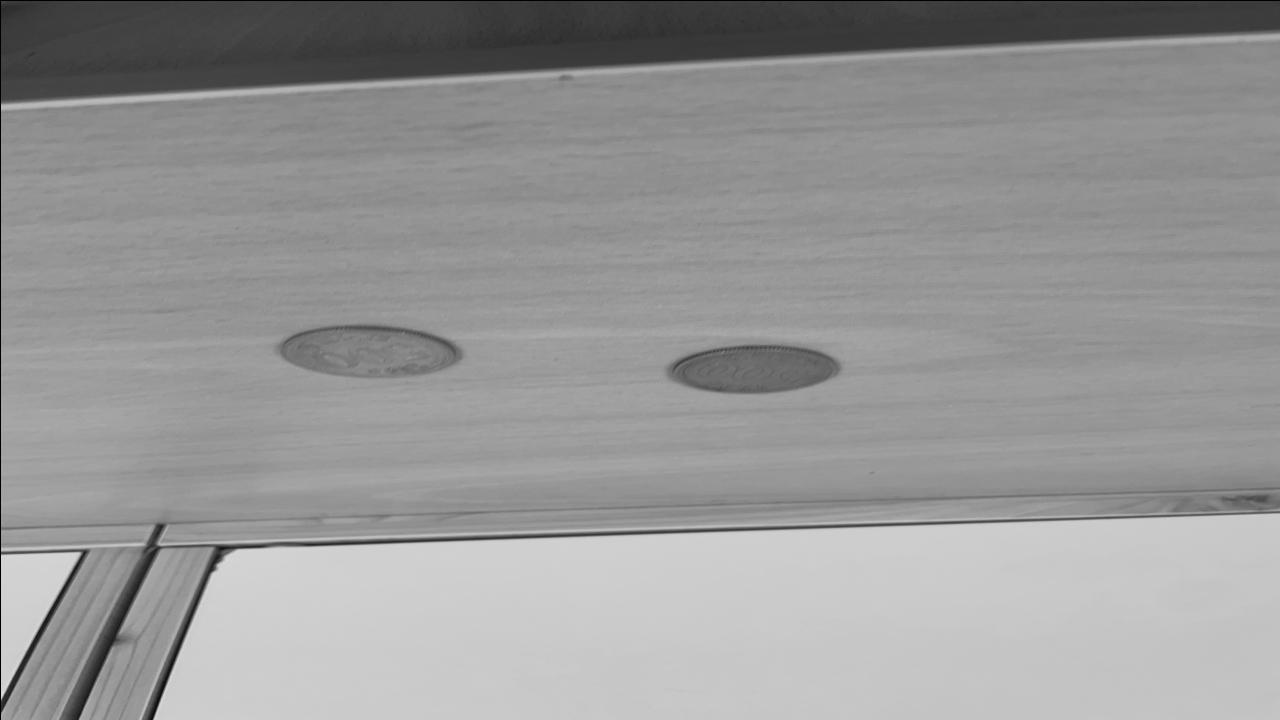coin: (274, 324, 464, 381), (664, 344, 844, 396)
